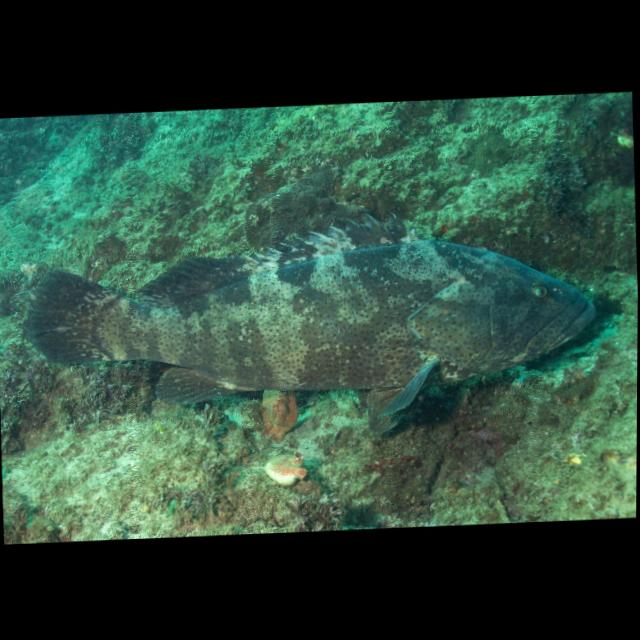Groupers: (21, 213, 604, 436)
